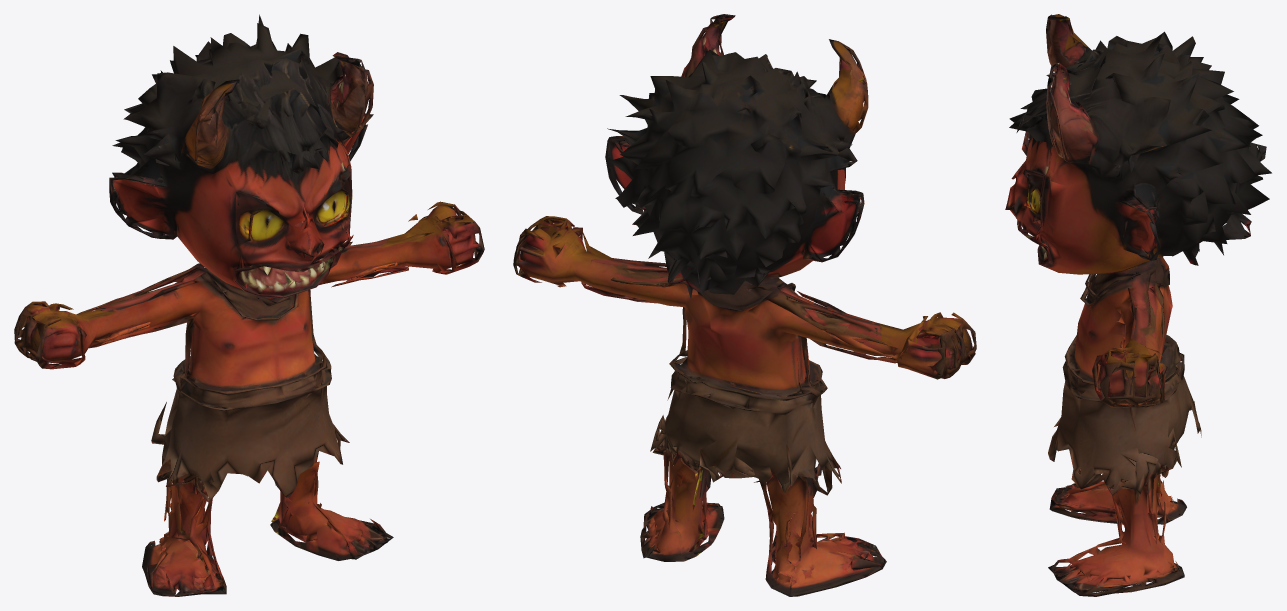
The model's file is Little_Imp_0618122723_texture.glb.
3 renders of one model, left to right at view 1: azimuth 30°, elevation 25°; view 2: azimuth 150°, elevation 25°; view 3: azimuth 270°, elevation 25°, orthographic.
Size of the model in its own units: 1.83 by 1.99 by 0.9576.
1 material, 1 textured.
